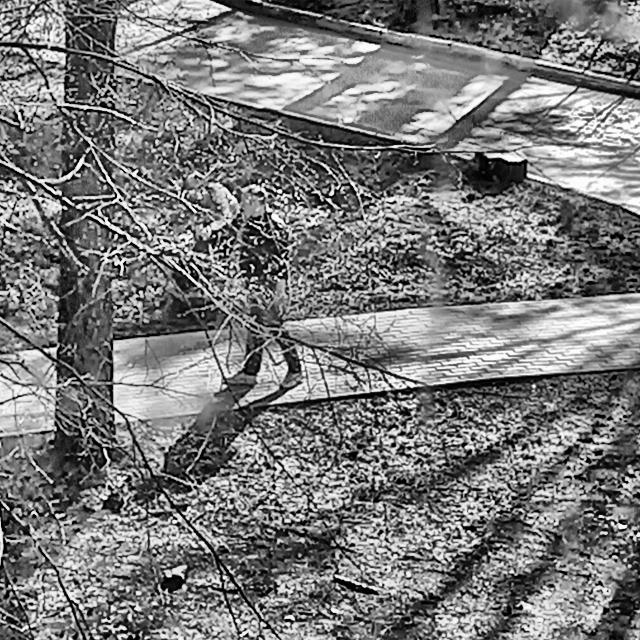Human: (225, 180, 317, 432)
